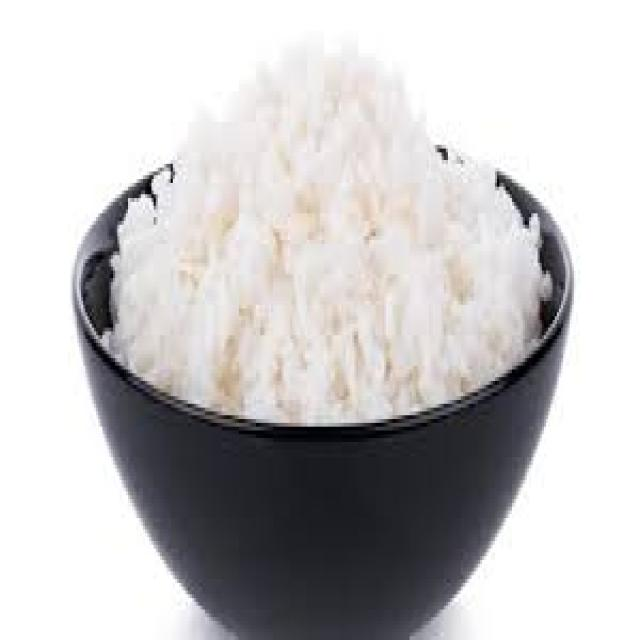nasi: (107, 40, 542, 412)
